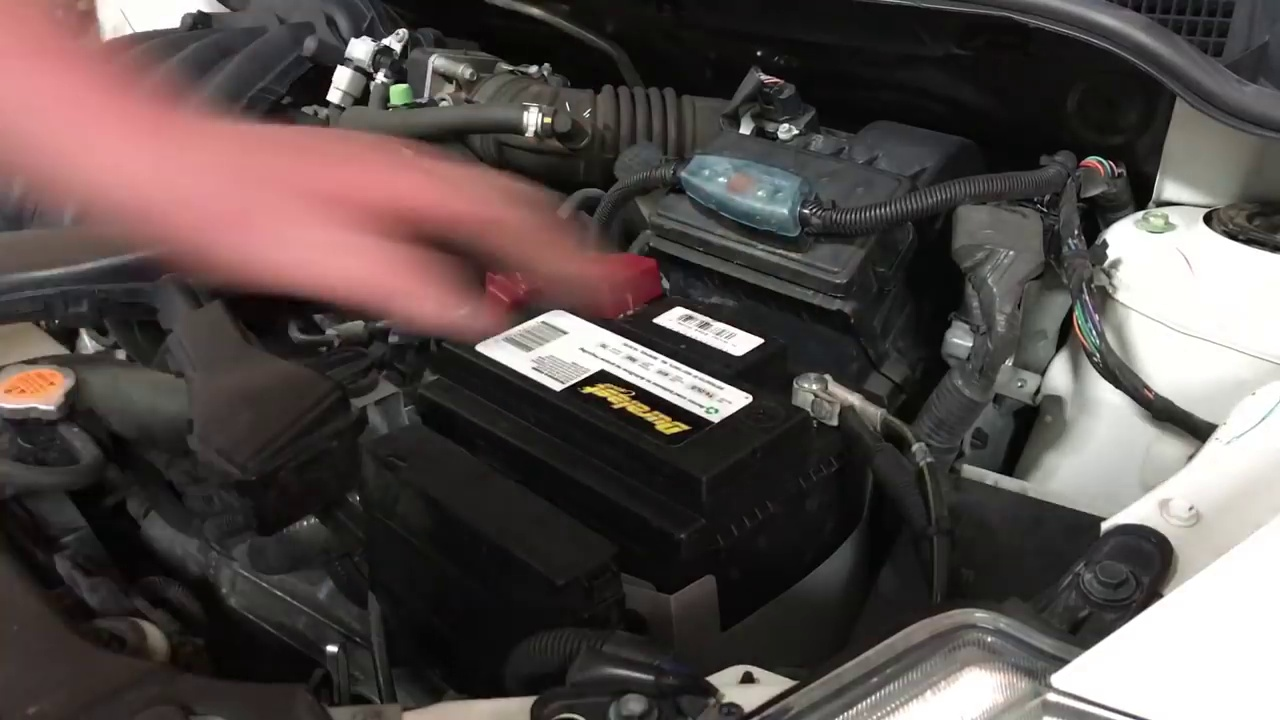battery: (462, 248, 850, 494)
neg_connected: (775, 349, 894, 440)
pos_touched: (448, 216, 656, 330)
